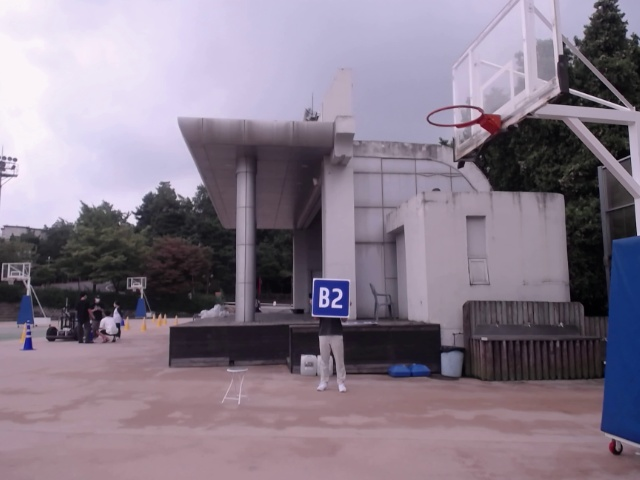delivery_b2: (313, 276, 351, 319)
